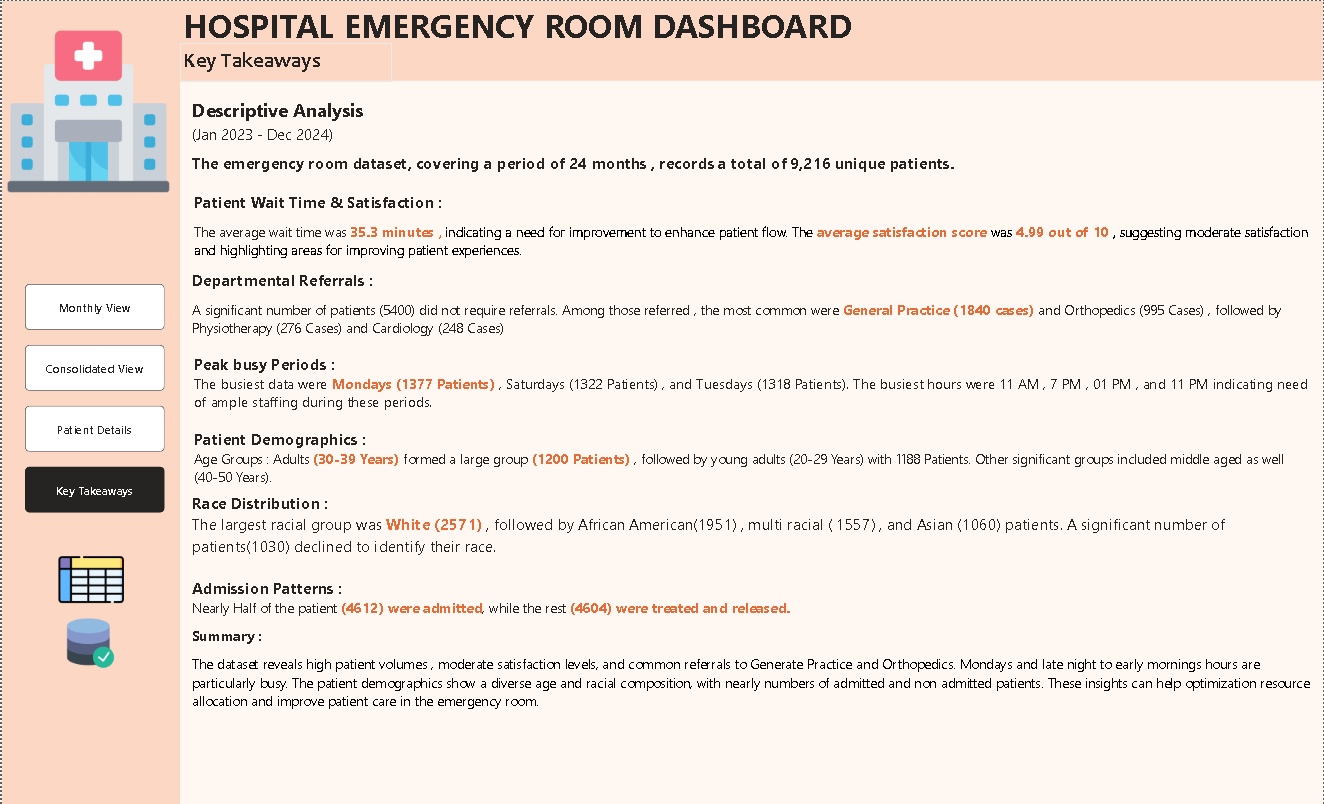

The dashboard page shown, as its layout file describes it:
{"tool":"powerbi","page":{"name":"Key Takeaways","canvas":[2300,1400],"ordinal":3},"visuals":[{"type":"shape","box":[0,0,310,1400],"z":0},{"type":"shape","box":[310,0,1990.3,139.3],"z":1000},{"type":"textbox","box":[310,0,1218.9,94],"z":2000},{"type":"textbox","box":[310,73.1,369.2,67.9],"z":3000},{"type":"image","box":[0,41.8,301.2,301.2],"z":4000},{"type":"textbox","box":[325.6,160.2,377.9,106.2],"z":4001},{"type":"textbox","box":[325.6,257.7,1932.8,67.9],"z":4002},{"type":"textbox","box":[329.1,325.6,1953.7,163.7],"z":4003},{"type":"textbox","box":[325.6,461.4,1953.7,184.6],"z":4004},{"type":"textbox","box":[329.1,607.7,1953.7,130.6],"z":4005},{"type":"textbox","box":[329.1,738.3,1950.2,132.3],"z":4006},{"type":"textbox","box":[325.6,849.8,1950.2,148],"z":4007},{"type":"textbox","box":[325.6,997.8,1957.2,256],"z":4008},{"type":"pageNavigator","box":[40,492.8,243.8,400.5],"z":4009}]}

Visuals, with their boxes in screenshot pixels (x1, y1, x2, y2), scaled from the page's 2300x1400 canvas onto the 1324x804 screenshot:
shape: [x1=0, y1=0, x2=178, y2=803]
shape: [x1=178, y1=0, x2=1323, y2=80]
textbox: [x1=178, y1=0, x2=880, y2=54]
textbox: [x1=178, y1=42, x2=391, y2=81]
image: [x1=0, y1=24, x2=173, y2=197]
textbox: [x1=187, y1=92, x2=405, y2=153]
textbox: [x1=187, y1=148, x2=1300, y2=187]
textbox: [x1=189, y1=187, x2=1314, y2=281]
textbox: [x1=187, y1=265, x2=1312, y2=371]
textbox: [x1=189, y1=349, x2=1314, y2=424]
textbox: [x1=189, y1=424, x2=1312, y2=500]
textbox: [x1=187, y1=488, x2=1310, y2=573]
textbox: [x1=187, y1=573, x2=1314, y2=720]
pageNavigator: [x1=23, y1=283, x2=163, y2=513]
